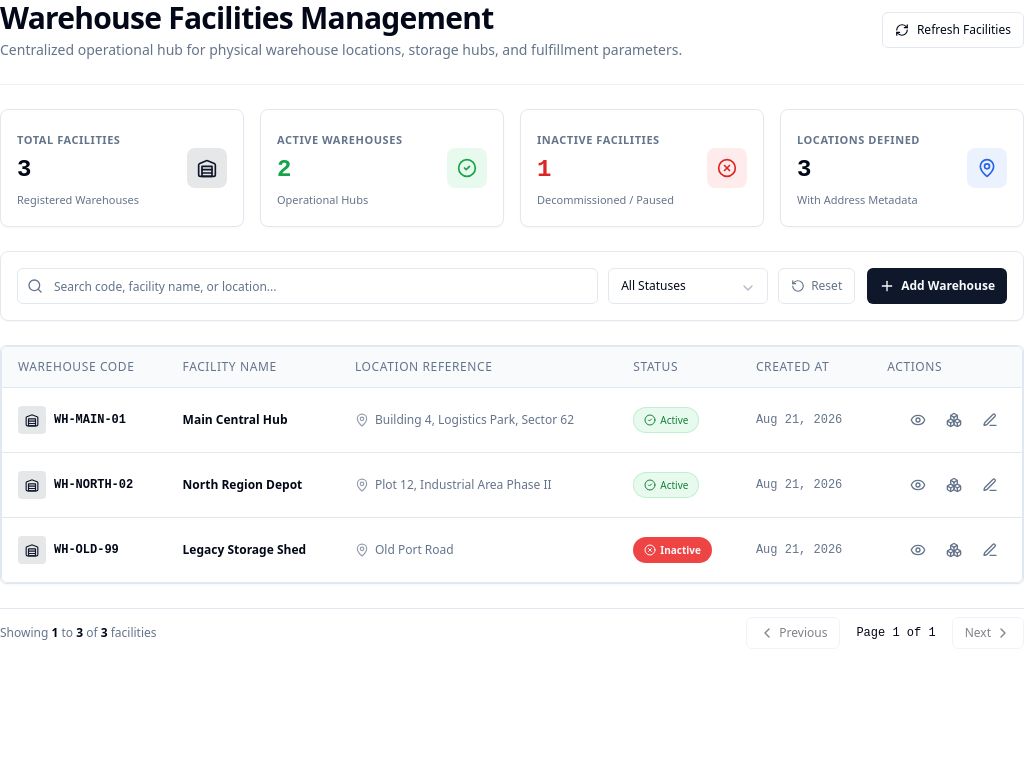
Warehouse Management Suite › opens Create Warehouse modal when Add Warehouse button is clicked
The width and height of the screenshot is (1024, 768).
What coordinates should you click on to do the following:
click the button "Add Warehouse"
I would click on:
 (937, 286)
Its box is 867,268 -> 1007,304.
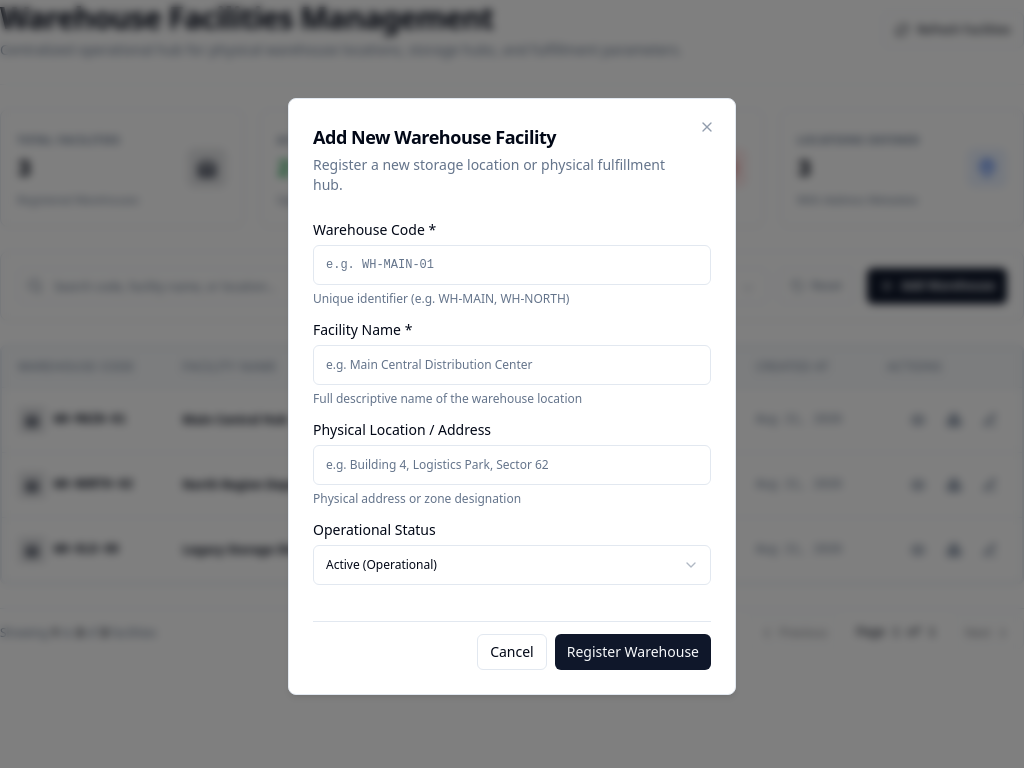
Result: the heading "Add New Warehouse Facility" is shown at 313,124 -> 556,148
